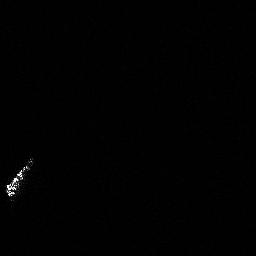ship: (2, 153, 38, 202)
